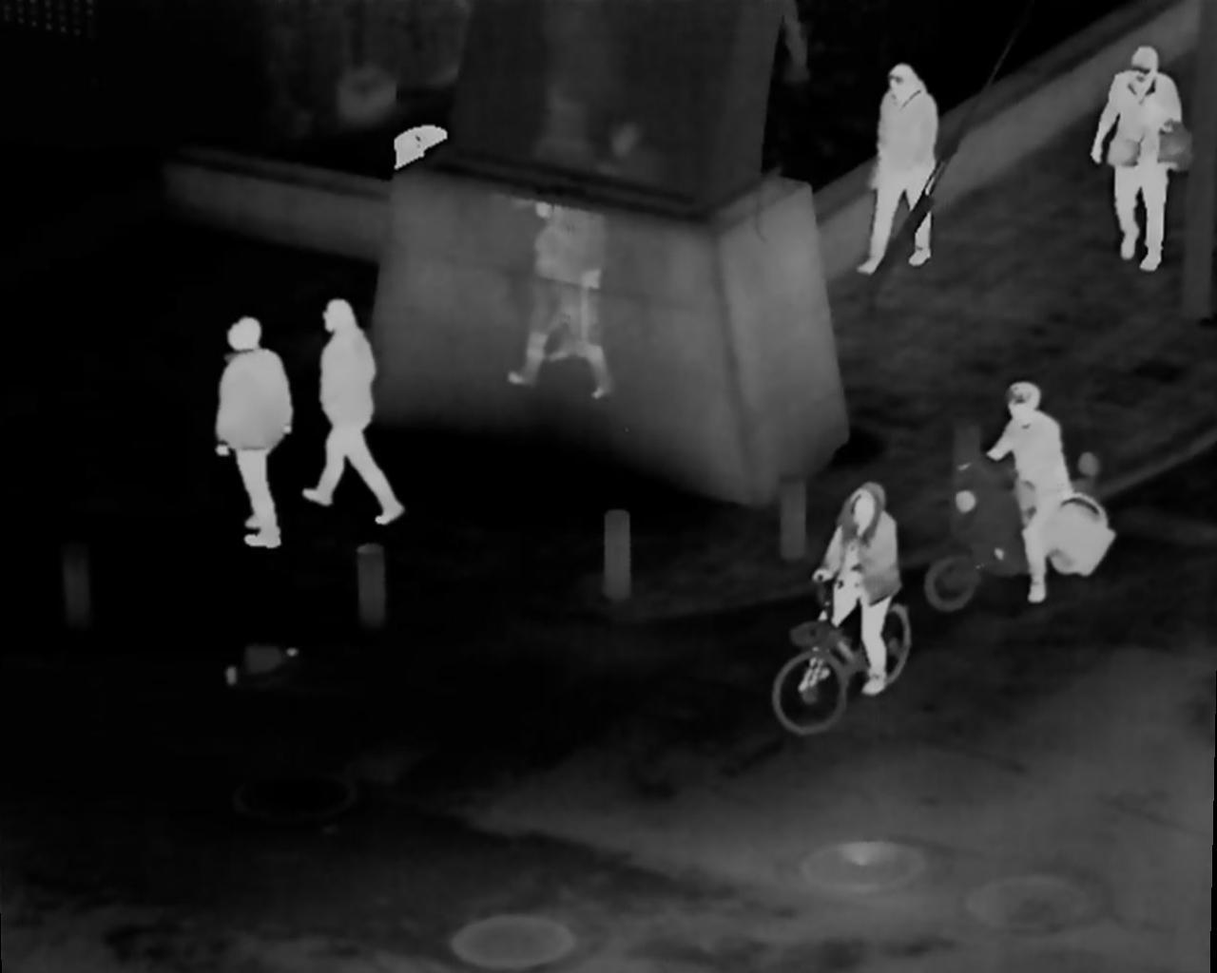person: (317, 289, 406, 519), (1097, 48, 1188, 270), (849, 63, 940, 282), (211, 314, 296, 547), (990, 374, 1072, 606), (804, 492, 901, 685)
